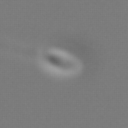normal: (1, 39, 43, 61)
